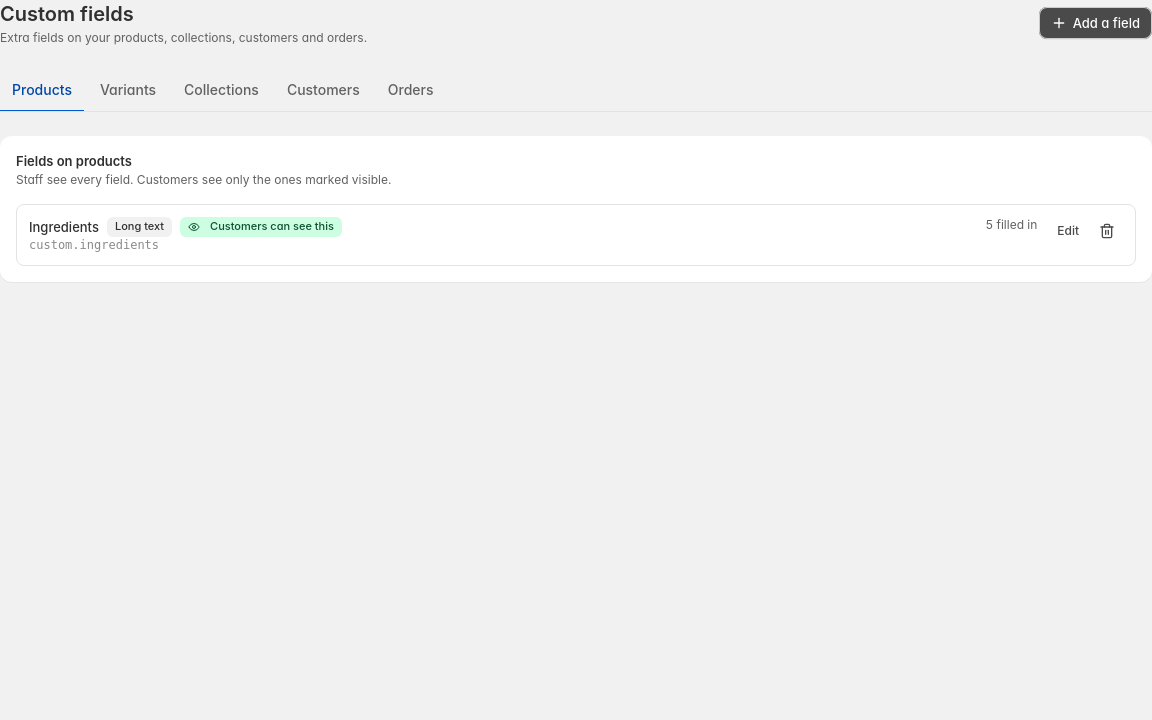
Test: the definitions screen › will not let the type be changed once the field exists
The width and height of the screenshot is (1152, 720).
Click the button "Edit" at (1068, 231), box [1049,217,1087,245]
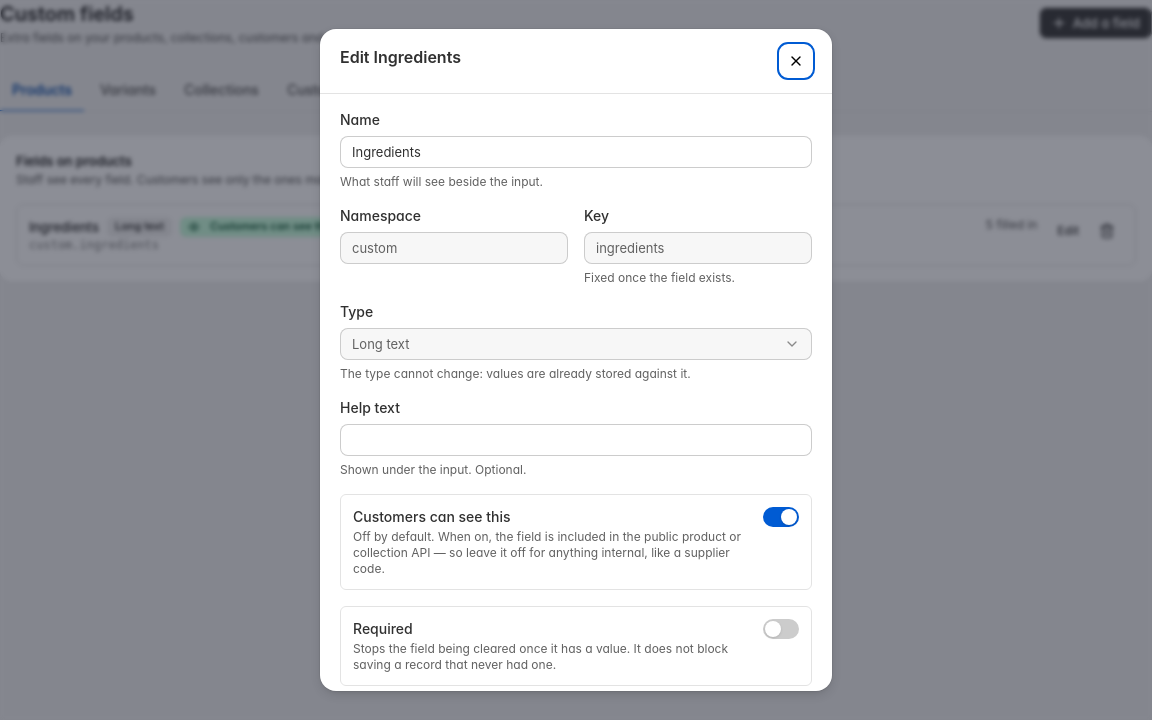
Expected: the dropdown labelled "Type" is disabled, [340,328,812,360]
Expected: the text "values are already stored against it" is shown, [340,366,691,381]
